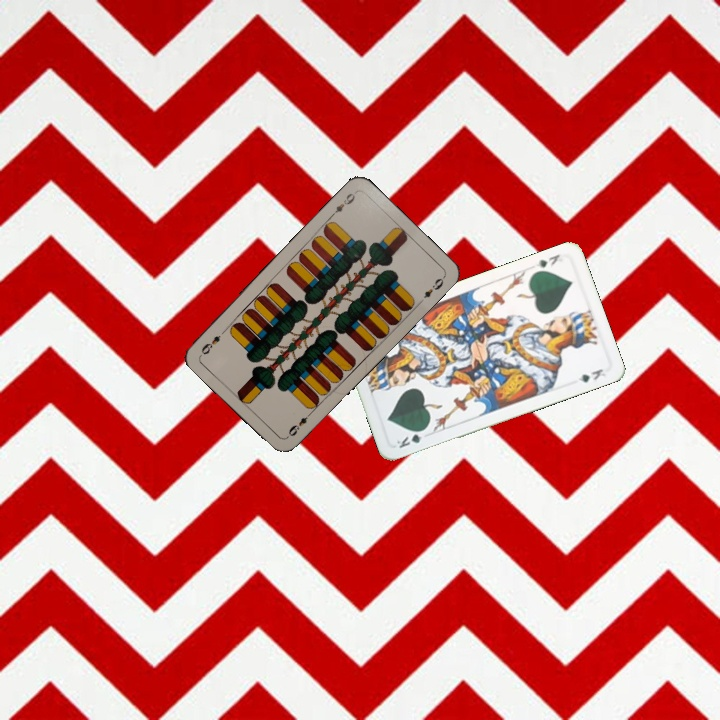E9: (327, 188, 358, 220), (284, 408, 315, 439)
GK: (393, 425, 429, 451), (532, 250, 562, 270)
